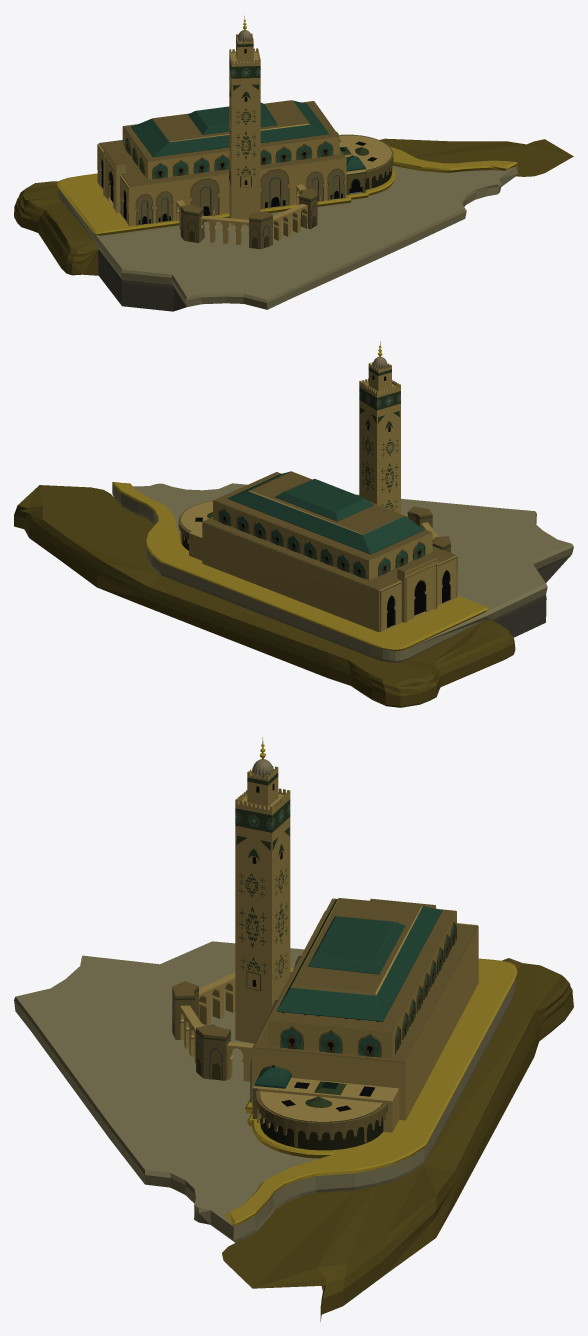
Rendered from PortCity.obj.
3 views of the same model, one above another, from view 1: azimuth 30°, elevation 25°; view 2: azimuth 150°, elevation 25°; view 3: azimuth 270°, elevation 25° (orthographic). The views are drawn at different scales.
Parts seen in each view (by area): view 1: Porte_Marron_Somb.001_Mesh.001, Mosque_Hassan_2, Plane_Roche, Mosque_Terasse, Porte_Marron_Somb_Mesh, Plane_Plateforme, Mosque_Toits, Porte_Porte, Plane_Roche_Dur, Plane_Floor, Porte_Vert, Mosque_Bande_verte (+5 smaller); view 2: Plane_Roche, Mosque_Hassan_2, Porte_Marron_Somb.001_Mesh.001, Plane_Plateforme, Mosque_Terasse, Mosque_Toits, Porte_Marron_Somb_Mesh, Plane_Floor, Plane_Roche_Dur, Mosque_Bande_verte, Porte_Vert, Mosque_Sombre (+2 smaller); view 3: Porte_Marron_Somb.001_Mesh.001, Mosque_Hassan_2, Plane_Roche, Mosque_Terasse, Plane_Plateforme, Porte_Marron_Somb_Mesh, Mosque_Toits, Plane_Floor, Mosque_Bande_verte, Mosque_Marron_Clair, object 13, Porte_Vert (+1 smaller).
Part boxes in pixels (x1=…): Porte_Marron_Somb.001_Mesh.001: x1=60, y1=178, x2=501, y2=298; Mosque_Hassan_2: x1=97, y1=33, x2=392, y2=244; Plane_Roche: x1=14, y1=138, x2=573, y2=275; Mosque_Terasse: x1=99, y1=100, x2=392, y2=249; Porte_Marron_Somb_Mesh: x1=58, y1=137, x2=517, y2=309; Plane_Plateforme: x1=57, y1=146, x2=517, y2=235; Mosque_Toits: x1=131, y1=100, x2=365, y2=171; Porte_Porte: x1=135, y1=169, x2=344, y2=225; Plane_Roche_Dur: x1=98, y1=250, x2=186, y2=311; Plane_Floor: x1=131, y1=170, x2=498, y2=268; Porte_Vert: x1=126, y1=139, x2=340, y2=224; Mosque_Bande_verte: x1=180, y1=38, x2=368, y2=221; Plane_Roche: x1=14, y1=485, x2=515, y2=707; Mosque_Hassan_2: x1=180, y1=362, x2=456, y2=632; Porte_Marron_Somb.001_Mesh.001: x1=149, y1=483, x2=547, y2=658; Plane_Plateforme: x1=112, y1=482, x2=488, y2=650; Mosque_Terasse: x1=181, y1=472, x2=456, y2=590; Mosque_Toits: x1=227, y1=471, x2=424, y2=554; Porte_Marron_Somb_Mesh: x1=112, y1=484, x2=573, y2=662; Plane_Floor: x1=141, y1=484, x2=540, y2=656; Plane_Roche_Dur: x1=493, y1=554, x2=571, y2=637; Mosque_Bande_verte: x1=207, y1=367, x2=450, y2=549; Porte_Vert: x1=219, y1=509, x2=424, y2=578; Mosque_Sombre: x1=195, y1=375, x2=450, y2=627; Porte_Marron_Somb.001_Mesh.001: x1=29, y1=941, x2=304, y2=1224; Mosque_Hassan_2: x1=180, y1=766, x2=478, y2=1146; Plane_Roche: x1=222, y1=958, x2=573, y2=1321; Mosque_Terasse: x1=172, y1=898, x2=478, y2=1147; Plane_Plateforme: x1=225, y1=958, x2=517, y2=1226; Porte_Marron_Somb_Mesh: x1=14, y1=922, x2=515, y2=1242; Mosque_Toits: x1=254, y1=899, x2=442, y2=1088; Plane_Floor: x1=109, y1=943, x2=512, y2=1209; Mosque_Bande_verte: x1=172, y1=772, x2=346, y2=1107; Mosque_Marron_Clair: x1=246, y1=898, x2=421, y2=1130; object 13: x1=260, y1=1098, x2=383, y2=1150; Porte_Vert: x1=281, y1=924, x2=455, y2=1057.
Bounding box in the file's own units: 8.31 × 4.07 × 5.75.
